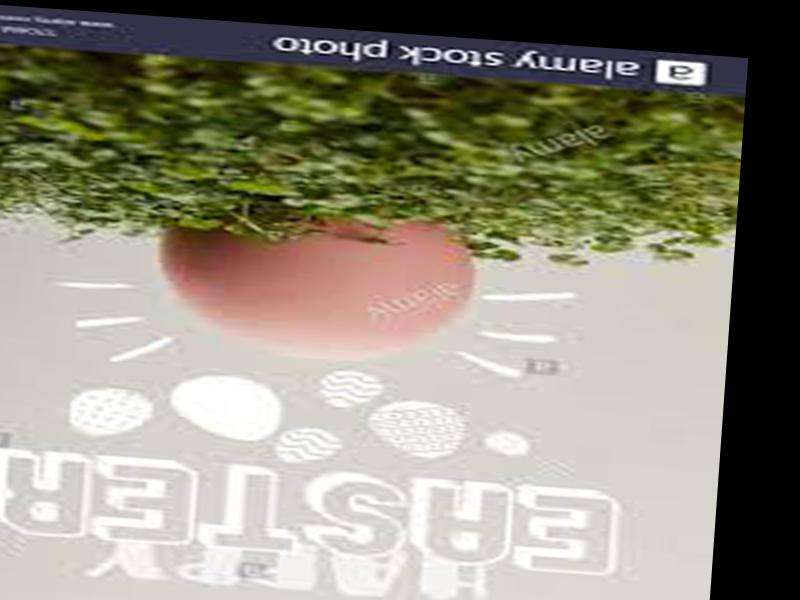Eggs: (147, 201, 473, 366)
